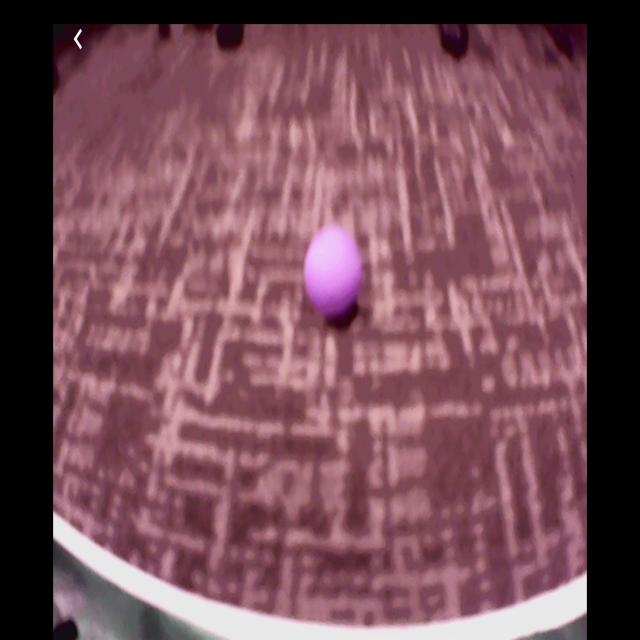ball: (304, 229, 364, 315)
